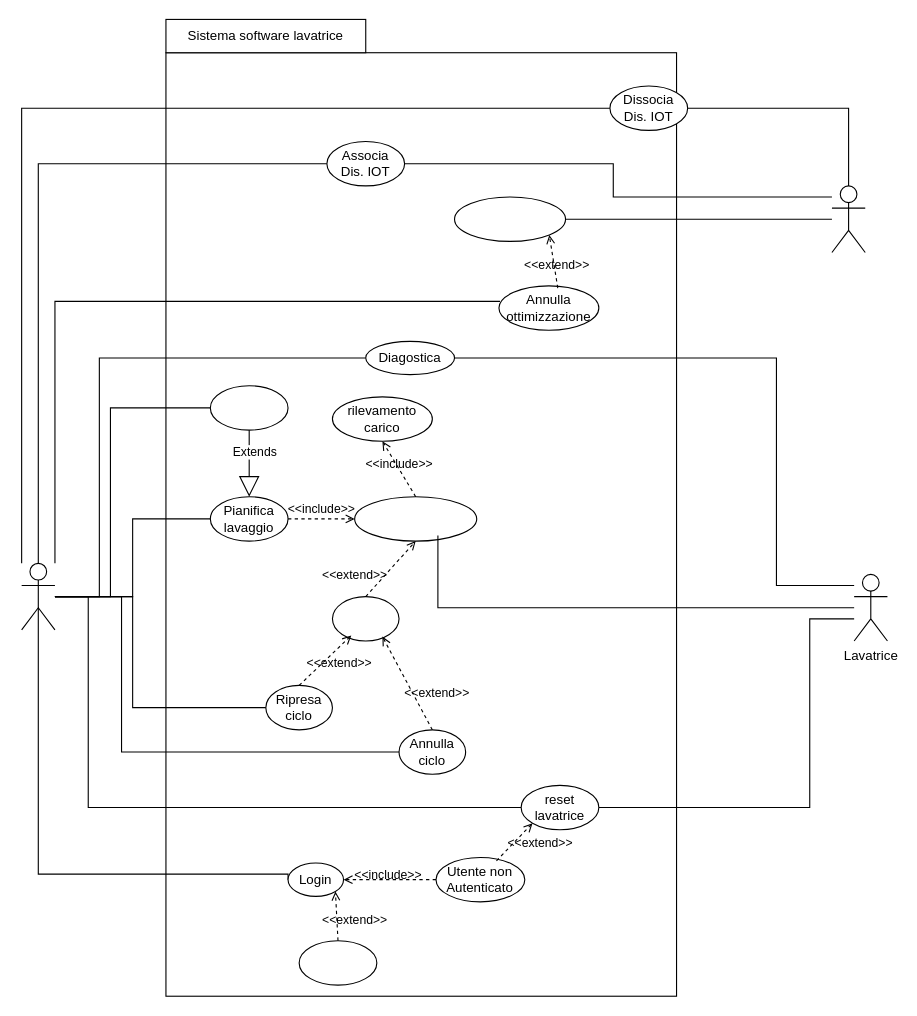
The diagram is 917 pixels wide and 1016 high, and some of its shapes have lost their labels. Each missing label, with the centre of its shape:
"avvia lavaggio" goes at (248,407).
"dispositivo IOT" goes at (848,219).
"Esecuzione ciclo di lavaggio" goes at (415,518).
"ottimizzazione consumi IOT" goes at (509,218).
"pausa ciclo" goes at (365,618).
"Recupero password" goes at (337,962).
"Utente" goes at (38,596).
